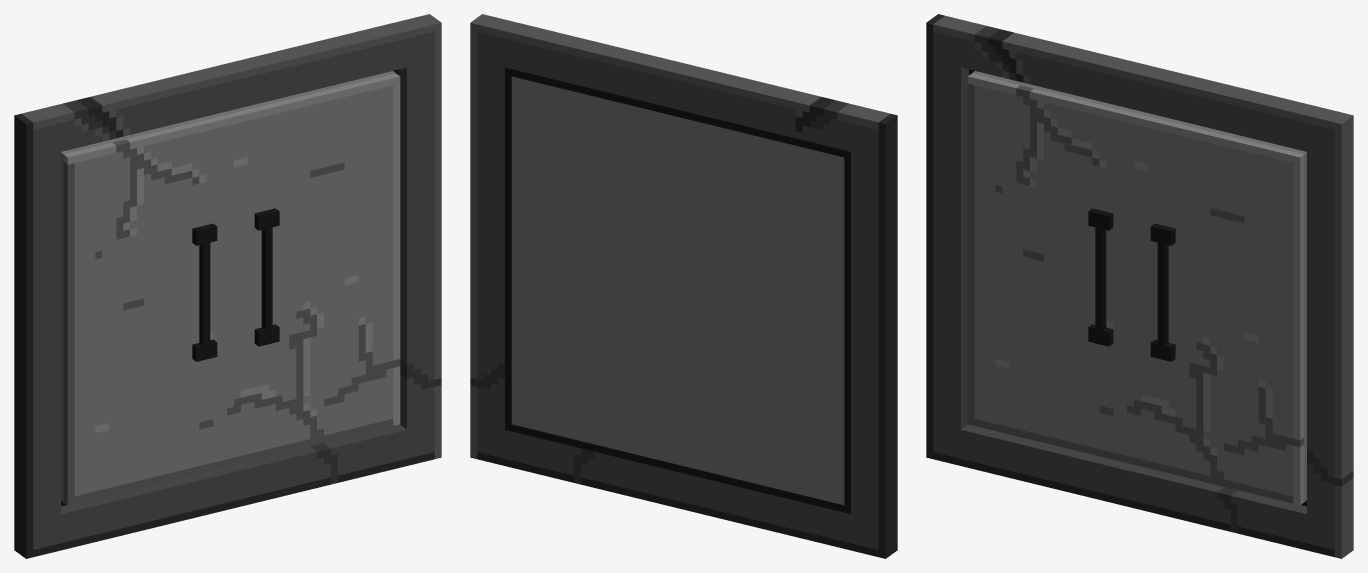
File: balpan_2.obj
The picture shows the model from 3 angles, left to right: view 1: azimuth 30°, elevation 25°; view 2: azimuth 150°, elevation 25°; view 3: azimuth 330°, elevation 25°; orthographic projection.
Parts seen in each view (by area): view 1: balpan_2; view 2: balpan_2; view 3: balpan_2.
Part boxes in pixels (<box>): balpan_2: <box>14,14,441,558</box>; balpan_2: <box>470,14,897,558</box>; balpan_2: <box>926,14,1353,558</box>.
Bounding box in the file's own units: 60 × 60 × 4.
Materials: 1 (1 with a texture image).
